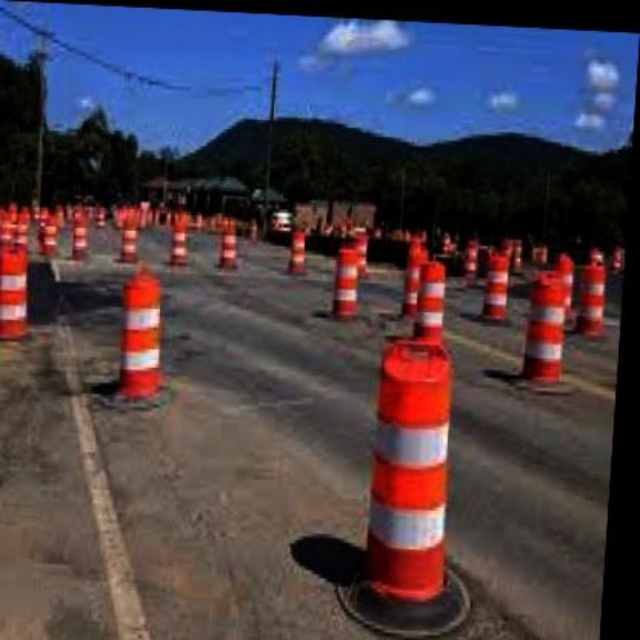obstacle: (363, 331, 470, 605), (119, 269, 171, 406), (0, 245, 45, 342)
